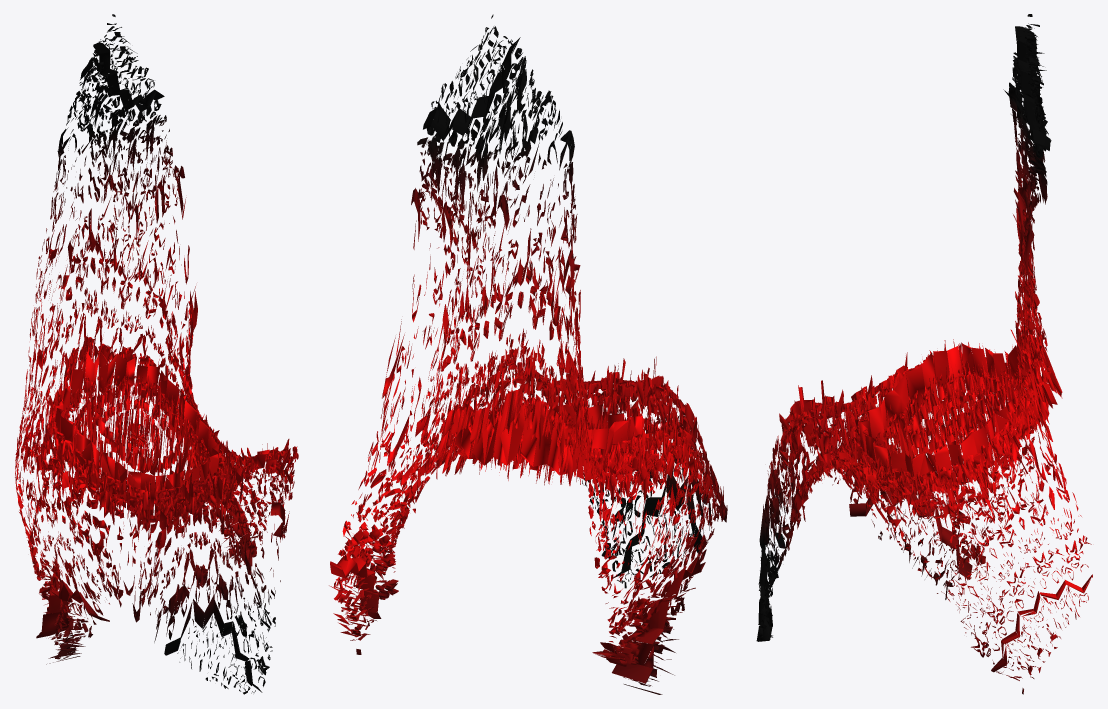
File: angry-chair-red-v36.glb
3 views of the same model, side by side, from view 1: azimuth 30°, elevation 25°; view 2: azimuth 150°, elevation 25°; view 3: azimuth 270°, elevation 25° (orthographic). The views are drawn at different scales.
Visible parts, largest first — view 1: Mesh_5; view 2: Mesh_5; view 3: Mesh_5.
Boxes of the visible parts, bbox=[...] form: Mesh_5: bbox=[15, 14, 298, 694]; Mesh_5: bbox=[329, 14, 727, 694]; Mesh_5: bbox=[756, 14, 1092, 694].
Size of the model in its own units: 0.9133 by 2.1 by 1.03.
Materials: 1 (1 with a texture image).
